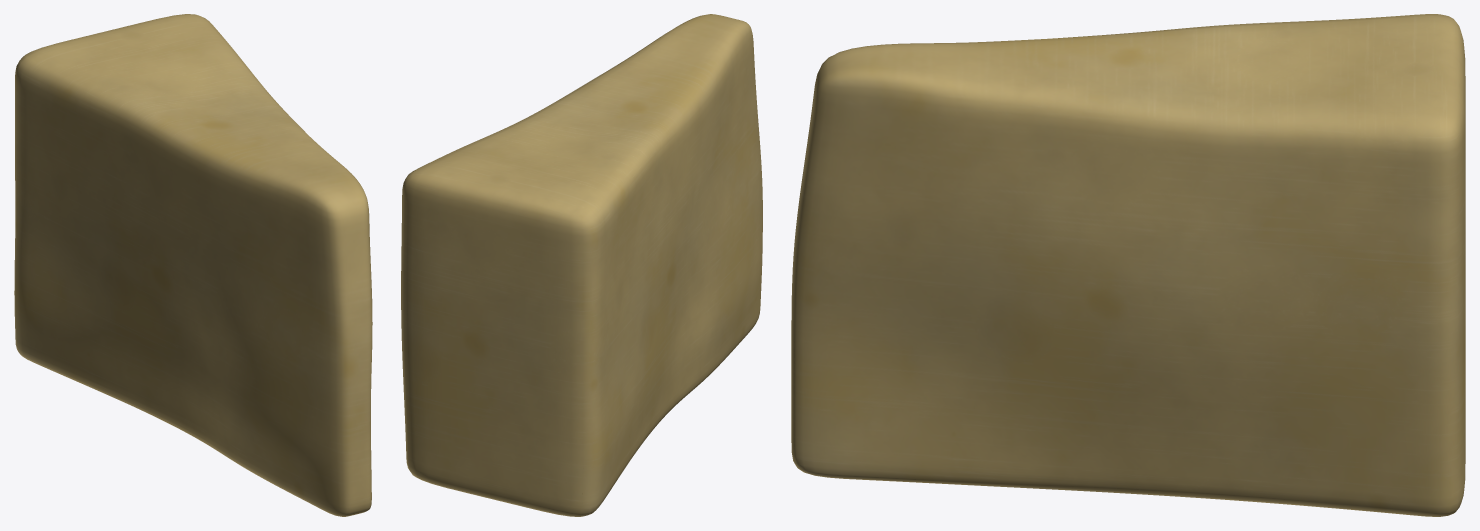
3 renders of one model, left to right at view 1: azimuth 30°, elevation 25°; view 2: azimuth 150°, elevation 25°; view 3: azimuth 270°, elevation 25°, orthographic. The views are drawn at different scales.
Parts seen in each view (by area): view 1: Cheese; view 2: Cheese; view 3: Cheese.
Part boxes in pixels (bbox=[...]): Cheese: bbox=[14, 14, 372, 516]; Cheese: bbox=[401, 14, 762, 516]; Cheese: bbox=[791, 14, 1465, 516].
Bounding box in the file's own units: 0.0458 × 0.0706 × 0.1042.
Materials: 1 (1 with a texture image).
